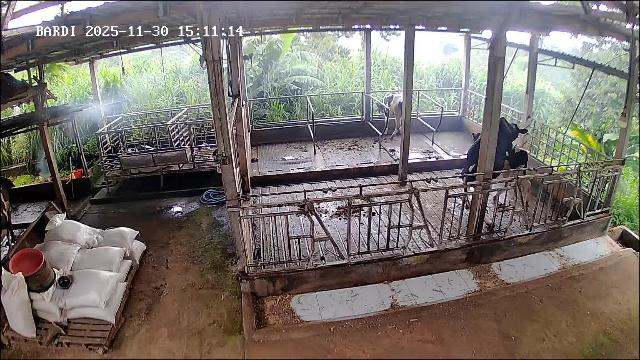mounting: (459, 118, 531, 211)
